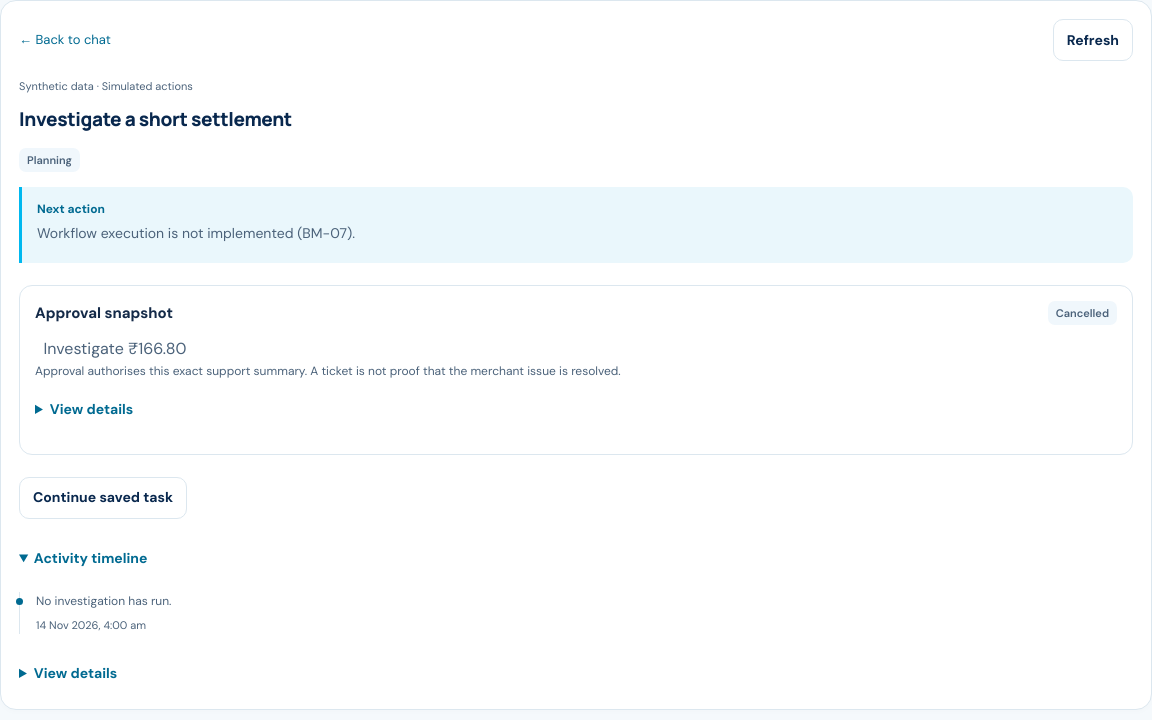
can continue a cancelled managed plan without creating another approval locally
The image size is (1152, 720).
Step 1. Click the button "Continue saved task" → (103,498), box [19,477,187,519]
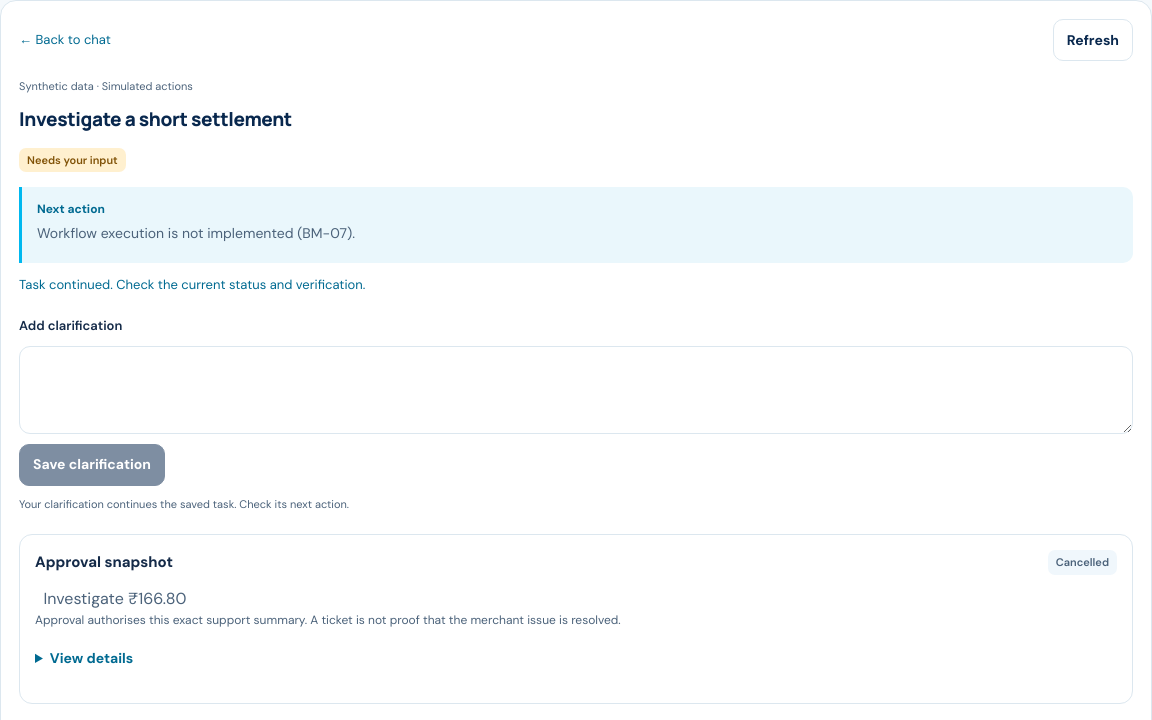
expect the text box labelled "Add clarification" is shown: met, box [19,346,1133,434]
